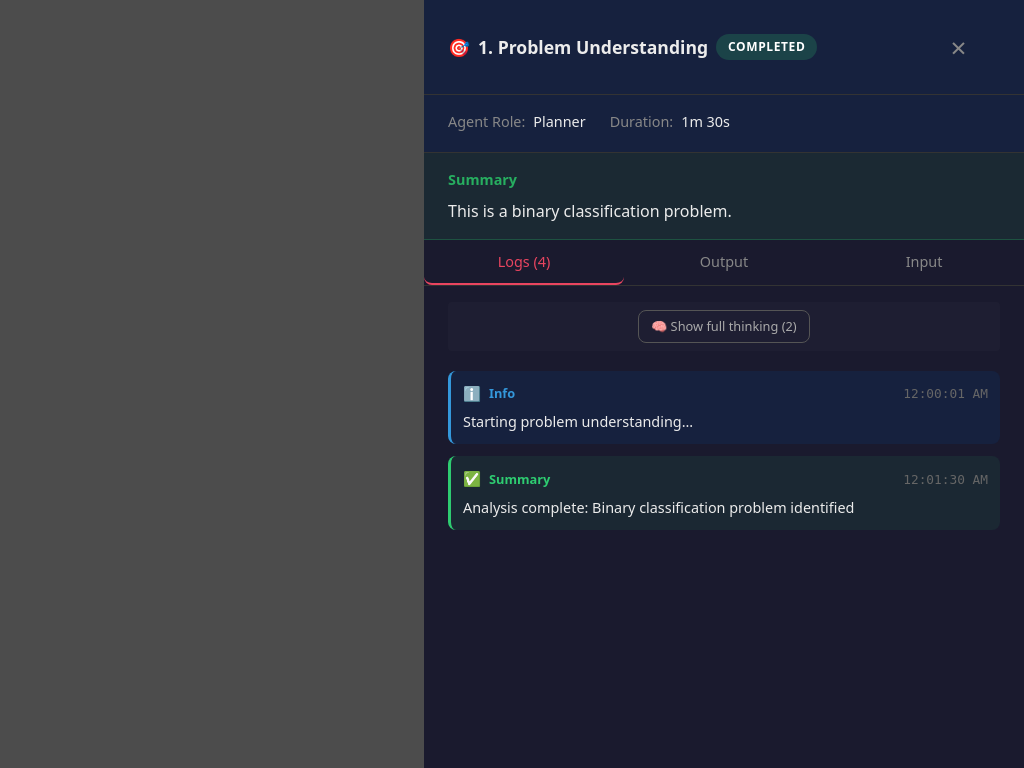
Scenario: AgentStepDrawer › switches to Input tab and shows input data
Click the button "Input": (924, 262) [824,240,1023,285]
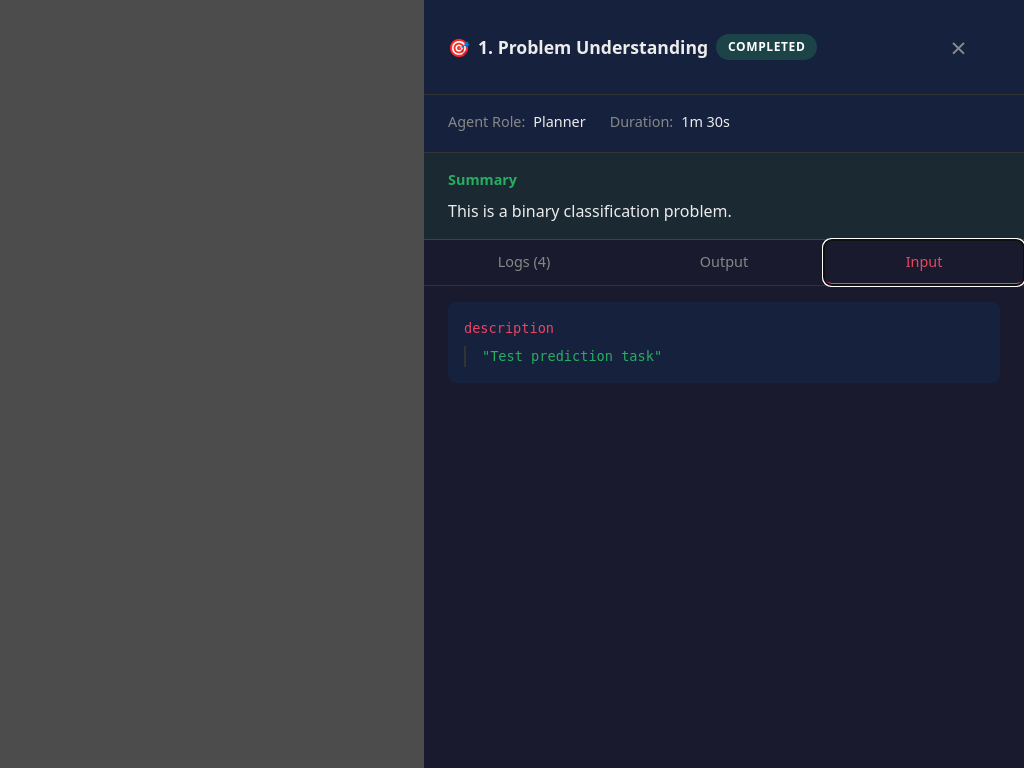
Now the text "description" is shown, box [464,320,554,336]
